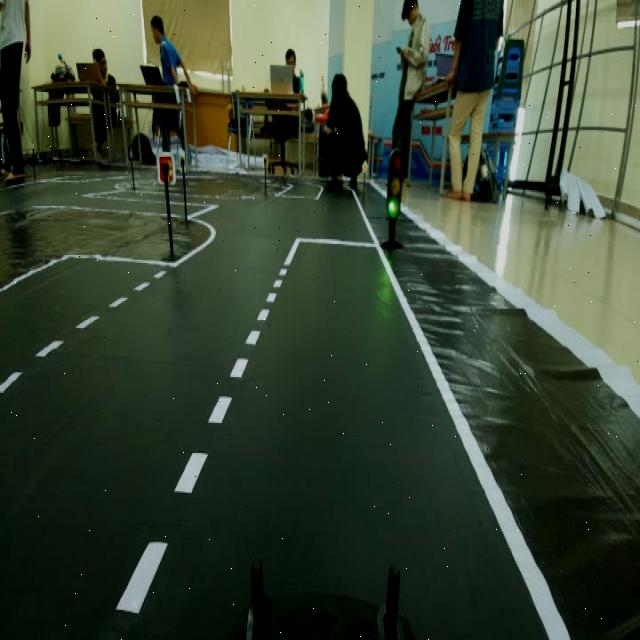trafficlight: (378, 142, 406, 252)
